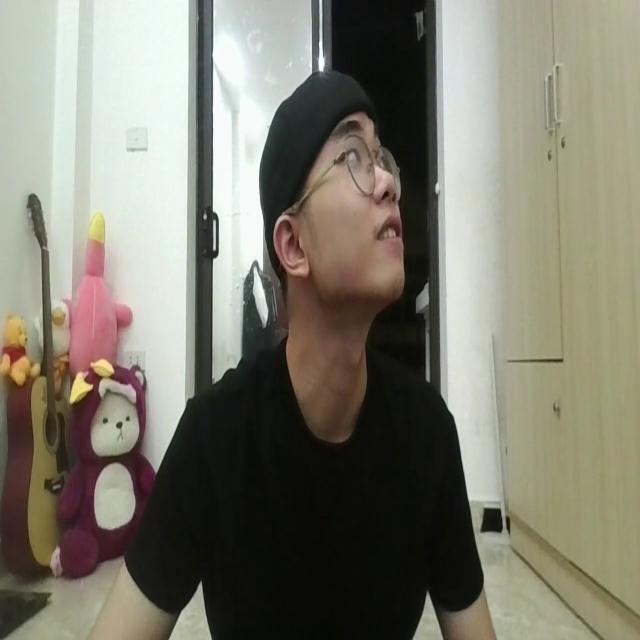student: (117, 63, 497, 640)
